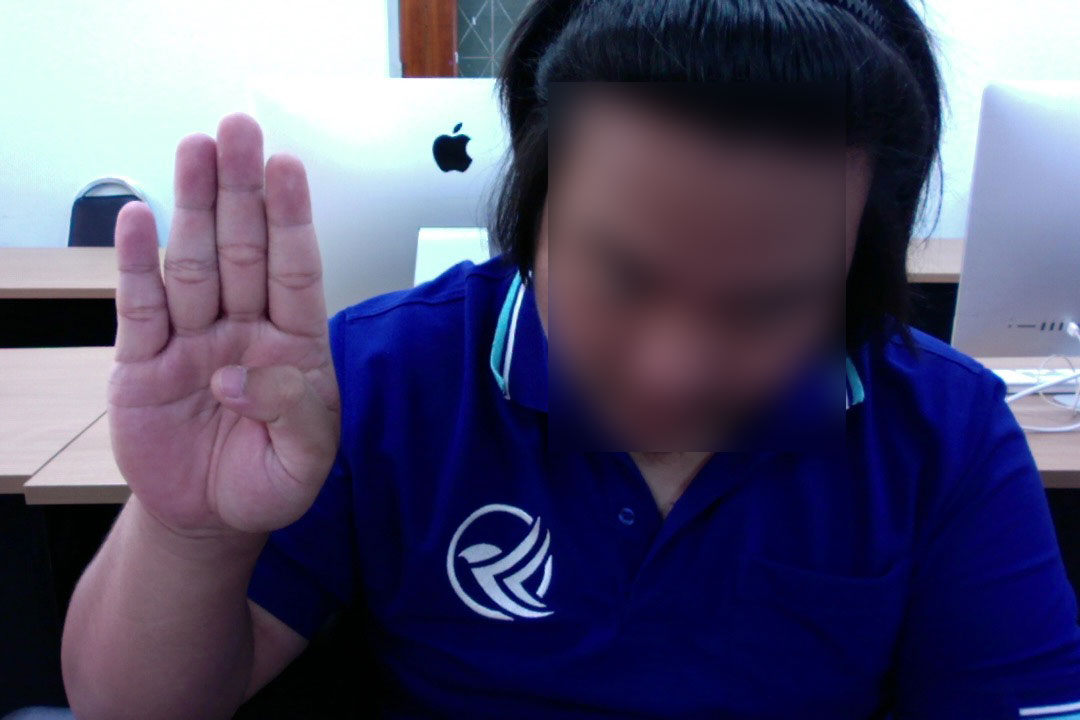bor: (97, 101, 351, 534)
